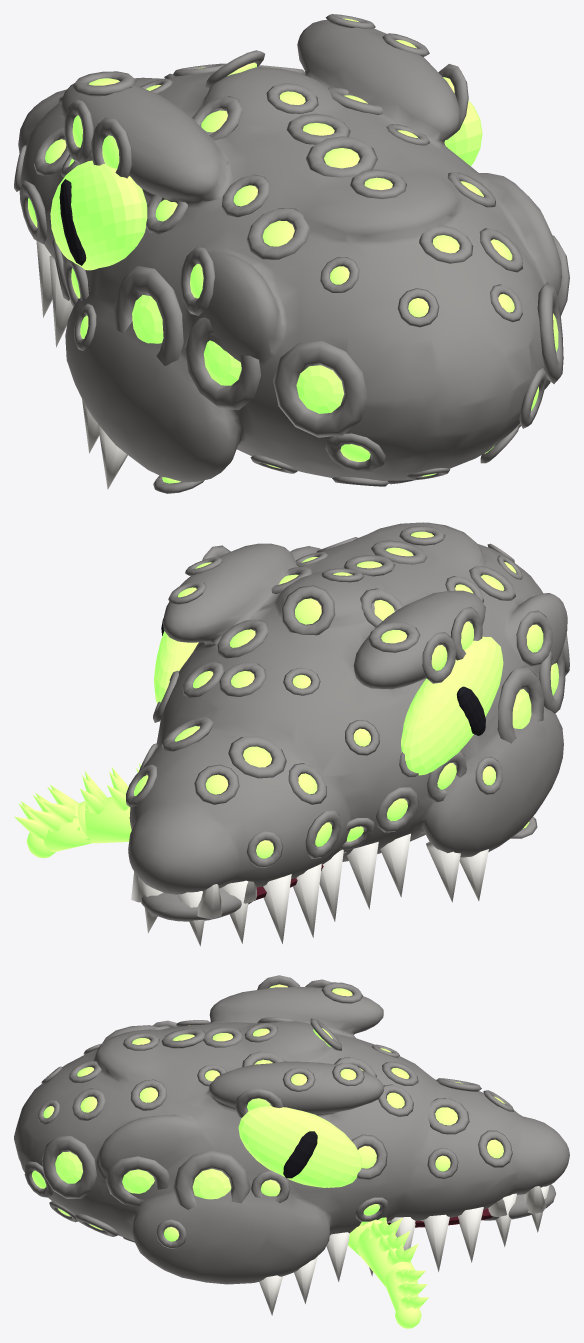
File: head.glb
3 views of the same model, one above another, from view 1: azimuth 30°, elevation 25°; view 2: azimuth 150°, elevation 25°; view 3: azimuth 270°, elevation 25° (orthographic). The views are drawn at different scales.
Parts seen in each view (by area): view 1: Head, RimsH, PoresH, EyeL, TeethUpper, HoleL2, EyeR, HoleL0, HoleL1, PupilL; view 2: Head, RimsH, TeethUpper, PoresH, EyeL, Tongue, Jaw, EyeR, TeethLower, PupilL, HoleL0; view 3: Head, RimsH, EyeR, PoresH, Tongue, TeethUpper, HoleR0, PupilR, TeethLower, HoleR2, HoleR1, Jaw.
Part boxes in pixels (x1=…): Head: x1=18, y1=20, x2=561, y2=482; RimsH: x1=14, y1=14, x2=569, y2=493; PoresH: x1=28, y1=18, x2=538, y2=483; EyeL: x1=50, y1=160, x2=147, y2=270; TeethUpper: x1=36, y1=240, x2=127, y2=489; HoleL2: x1=296, y1=365, x2=344, y2=413; EyeR: x1=444, y1=100, x2=482, y2=166; HoleL0: x1=132, y1=295, x2=163, y2=343; HoleL1: x1=203, y1=340, x2=241, y2=385; PupilL: x1=59, y1=179, x2=86, y2=265; Head: x1=128, y1=522, x2=567, y2=894; RimsH: x1=126, y1=526, x2=569, y2=867; TeethUpper: x1=141, y1=833, x2=488, y2=946; PoresH: x1=134, y1=531, x2=543, y2=858; EyeL: x1=401, y1=636, x2=503, y2=775; Tongue: x1=14, y1=763, x2=141, y2=858; Jaw: x1=141, y1=888, x2=252, y2=921; EyeR: x1=154, y1=631, x2=198, y2=703; TeethLower: x1=131, y1=851, x2=346, y2=919; PupilL: x1=456, y1=686, x2=485, y2=735; HoleL0: x1=512, y1=689, x2=531, y2=728; Head: x1=14, y1=987, x2=569, y2=1284; RimsH: x1=24, y1=975, x2=513, y2=1248; EyeR: x1=238, y1=1105, x2=362, y2=1187; PoresH: x1=32, y1=984, x2=504, y2=1241; Tongue: x1=348, y1=1217, x2=428, y2=1328; TeethUpper: x1=259, y1=1185, x2=549, y2=1315; HoleR0: x1=192, y1=1169, x2=231, y2=1199; PupilR: x1=283, y1=1131, x2=317, y2=1178; TeethLower: x1=387, y1=1186, x2=546, y2=1222; HoleR2: x1=55, y1=1151, x2=82, y2=1183; HoleR1: x1=122, y1=1169, x2=154, y2=1193; Jaw: x1=482, y1=1184, x2=555, y2=1220.
Size of the model in its own units: 0.9568 by 0.6905 by 1.44.
